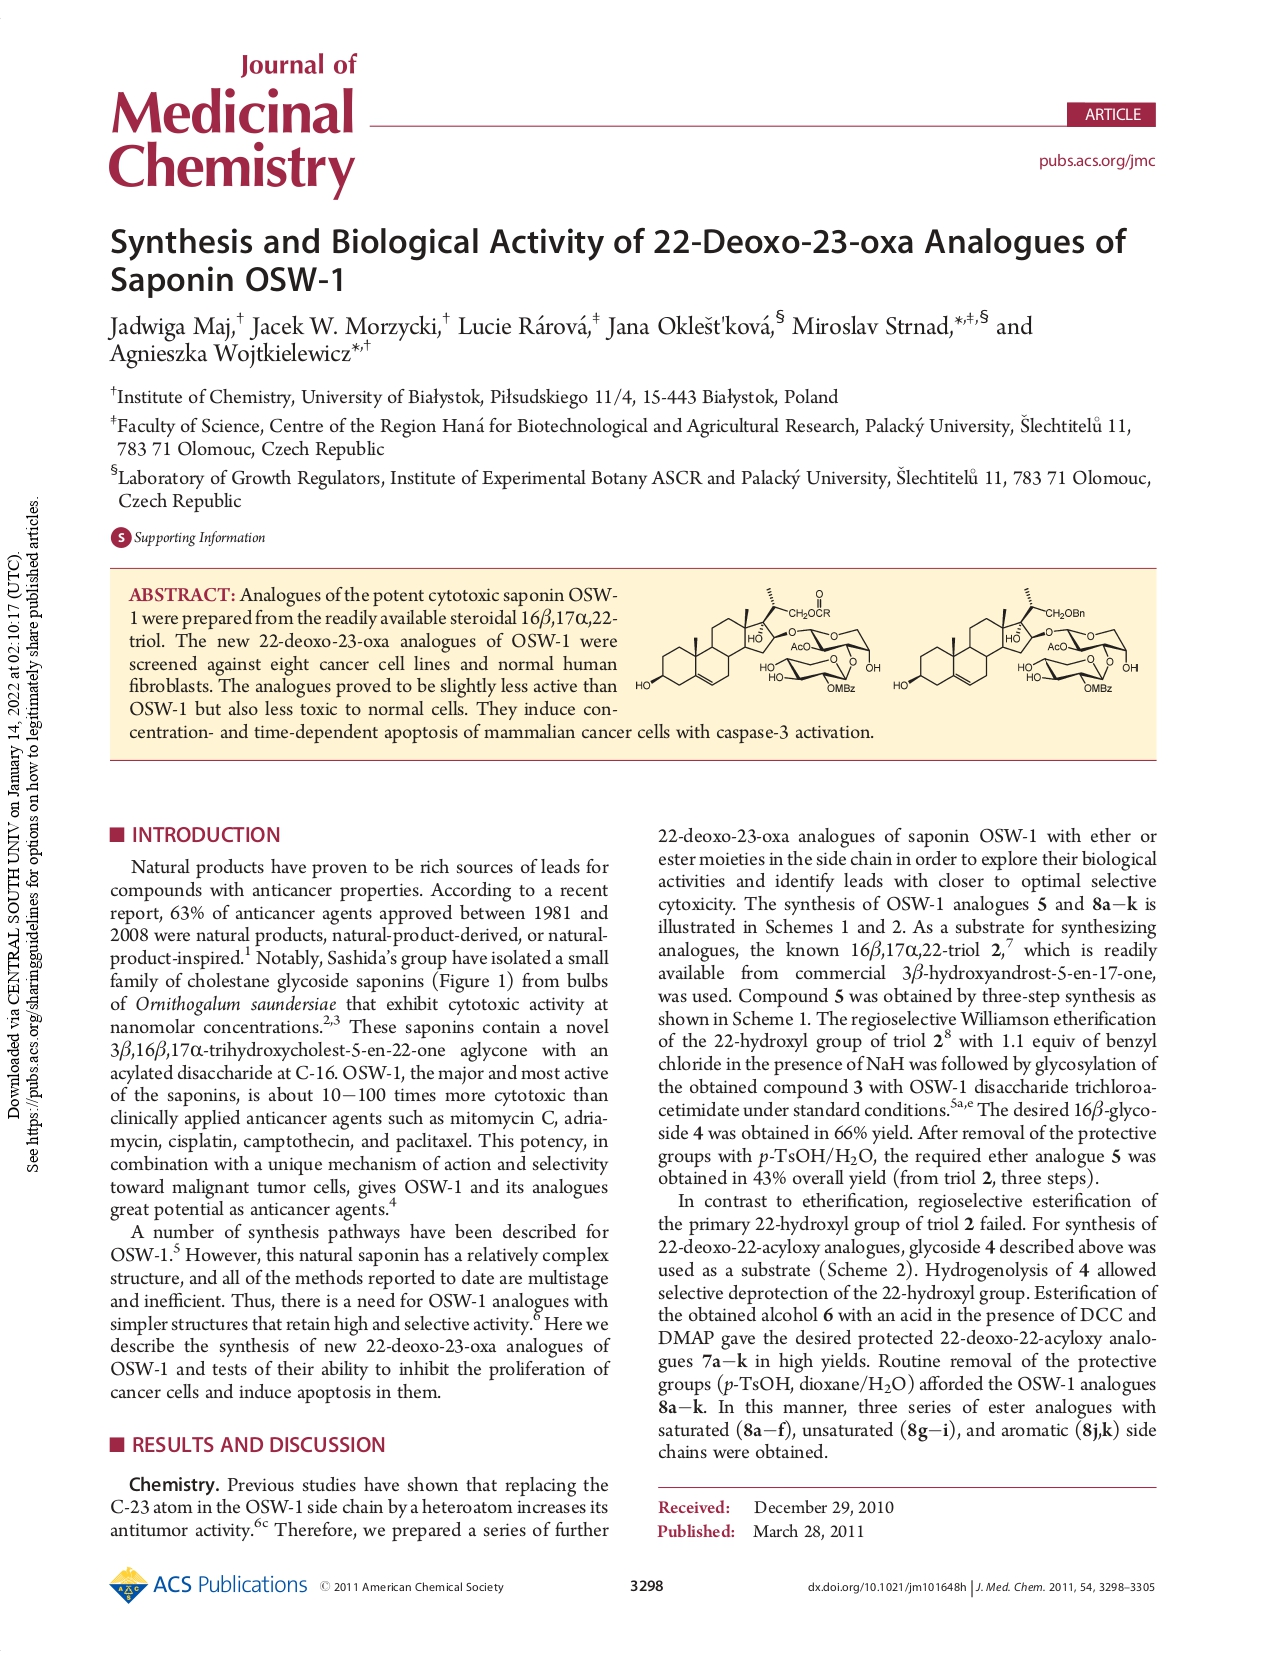exist_molecular: (892, 580, 1142, 697), (636, 585, 884, 696)
